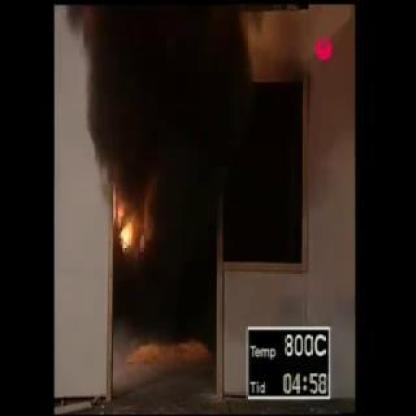Fire: (114, 190, 151, 253)
